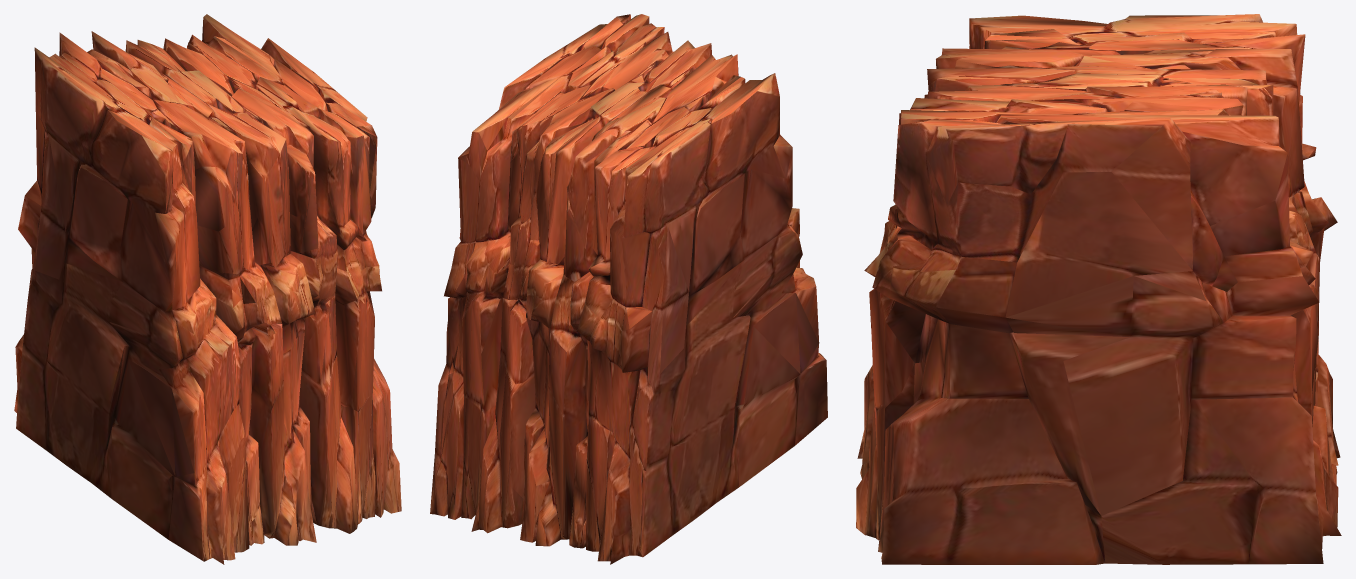
The model's file is rockB.glb.
The picture shows the model from 3 angles, left to right: view 1: azimuth 30°, elevation 25°; view 2: azimuth 150°, elevation 25°; view 3: azimuth 270°, elevation 25°; orthographic projection. The views are drawn at different scales.
Parts seen in each view (by area): view 1: RedRockKitB; view 2: RedRockKitB; view 3: RedRockKitB.
Boxes of the visible parts, bbox=[...] form: RedRockKitB: bbox=[14, 14, 401, 564]; RedRockKitB: bbox=[430, 14, 827, 564]; RedRockKitB: bbox=[856, 14, 1341, 564].
Bounding box in the file's own units: 4.18 × 7.5 × 7.44.
1 material, 1 textured.
